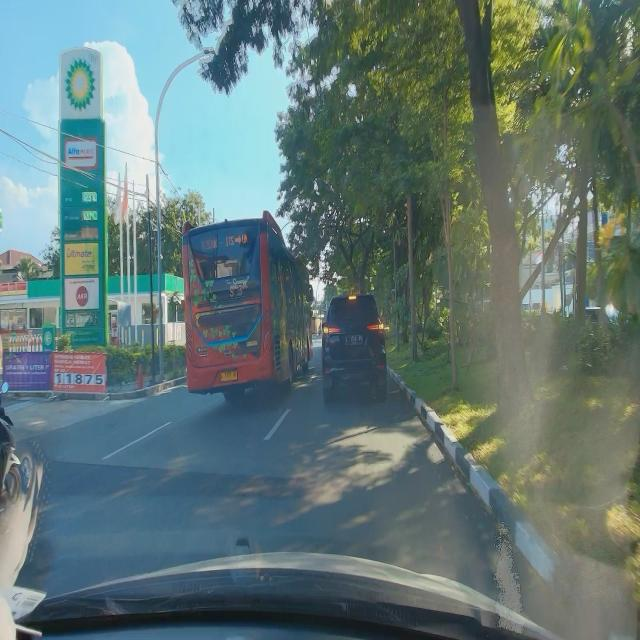bus: (181, 210, 314, 410)
car: (320, 292, 388, 404)
license-plate: (220, 370, 238, 383), (345, 334, 363, 346)
